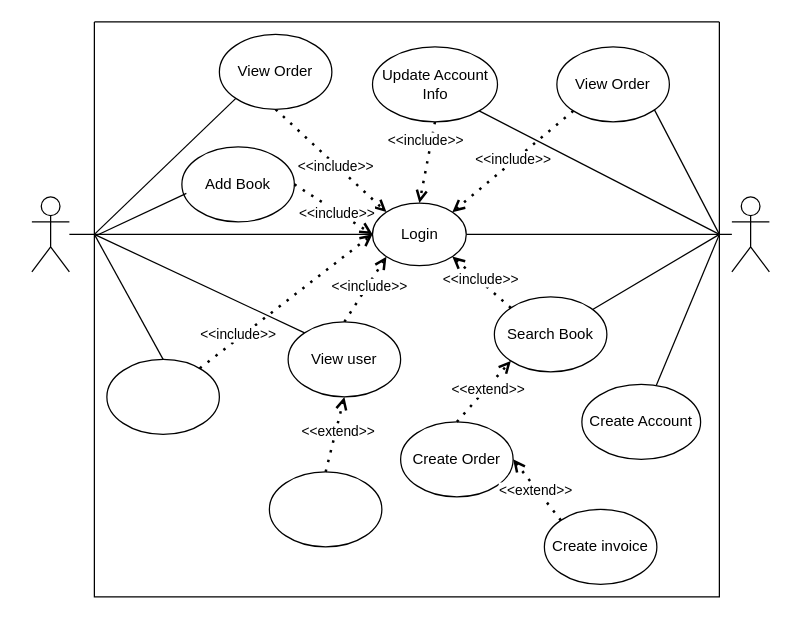
This 791x619 diagram has some shape labels left out. The centre of each missing label's shape, as x and y in pixels:
Change user Status: the point at 325,509
Manager: the point at 50,234
Update Book: the point at 162,396
User: the point at 750,234
